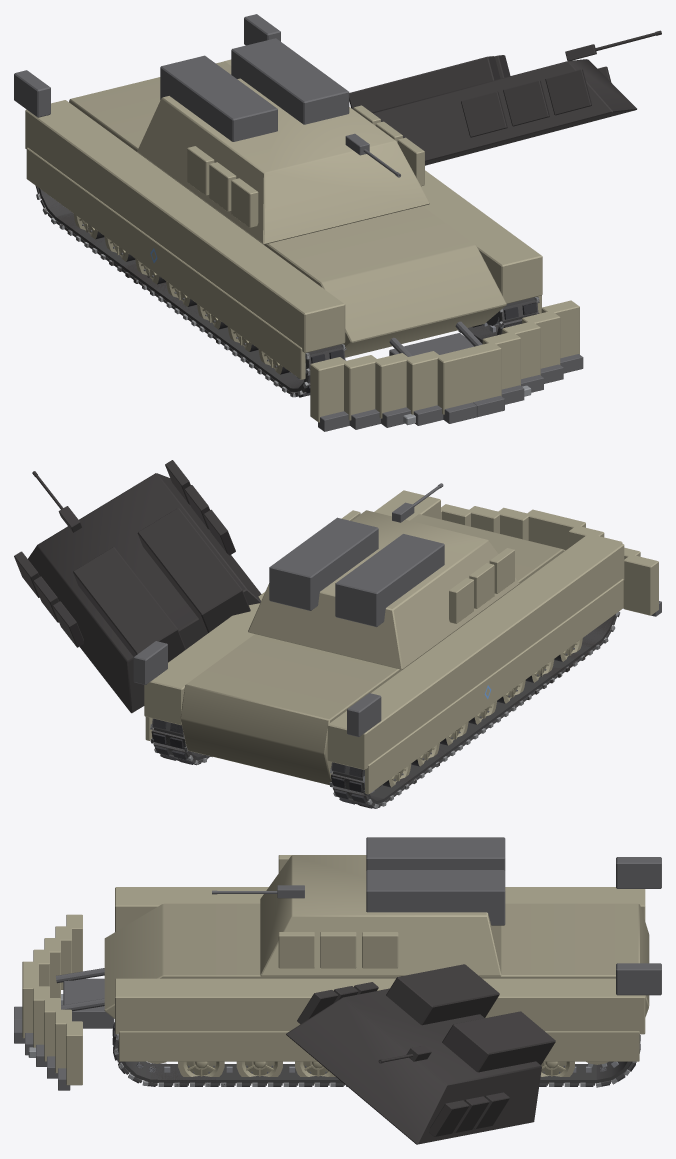
The model's file is mineClearer__m1150_assault_breacher.glb.
The picture shows the model from 3 angles, top to bottom: view 1: azimuth 30°, elevation 25°; view 2: azimuth 150°, elevation 25°; view 3: azimuth 270°, elevation 25°; orthographic projection. The views are drawn at different scales.
Parts seen in each view (by area): view 1: Hull_Mesh, Turret_Mesh, Wreck, Track_L_Mesh, Track_R_Mesh; view 2: Hull_Mesh, Wreck, Turret_Mesh, Track_L_Mesh, Track_R_Mesh; view 3: Hull_Mesh, Wreck, Turret_Mesh, Track_R_Mesh, Wheel_R6_Mesh, Wheel_R5_Mesh, Gun_Mesh, Wheel_R0_Mesh, Wheel_R4_Mesh.
Boxes of the visible parts, box(x1,y1,x2,y2) form: Hull_Mesh: box(14, 14, 583, 431); Turret_Mesh: box(137, 38, 429, 244); Wreck: box(37, 30, 661, 395); Track_L_Mesh: box(35, 186, 346, 397); Track_R_Mesh: box(458, 297, 539, 343); Hull_Mesh: box(133, 490, 661, 794); Wreck: box(14, 460, 619, 808); Turret_Mesh: box(248, 510, 519, 669); Track_L_Mesh: box(329, 611, 620, 808); Track_R_Mesh: box(150, 718, 212, 765); Hull_Mesh: box(14, 857, 661, 1090); Wreck: box(113, 964, 640, 1144); Turret_Mesh: box(260, 837, 505, 976); Track_R_Mesh: box(112, 1022, 640, 1087); Wheel_R6_Mesh: box(178, 1061, 224, 1083); Wheel_R5_Mesh: box(236, 1061, 282, 1083); Gun_Mesh: box(212, 885, 304, 898); Wheel_R0_Mesh: box(540, 1061, 574, 1084); Wheel_R4_Mesh: box(295, 1061, 335, 1084).
Size of what is drawn, in the model's own units: 8.02 by 2.72 by 9.32.
